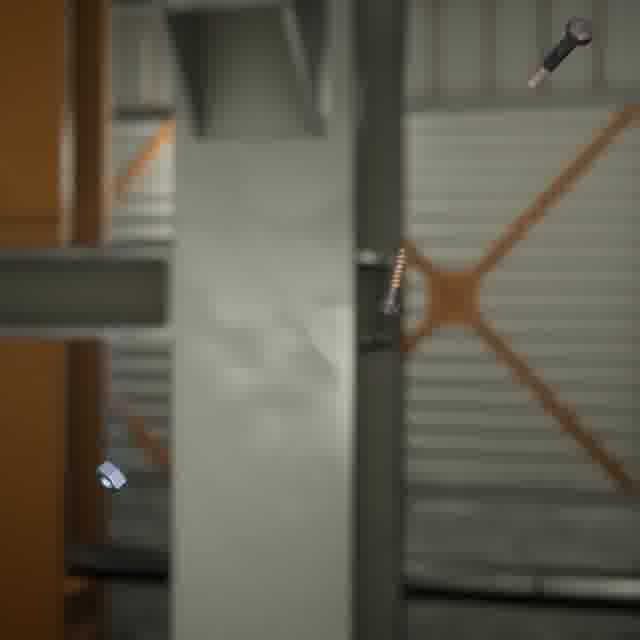bolt: (521, 14, 597, 93), (371, 242, 412, 320)
nut: (90, 456, 130, 497)
